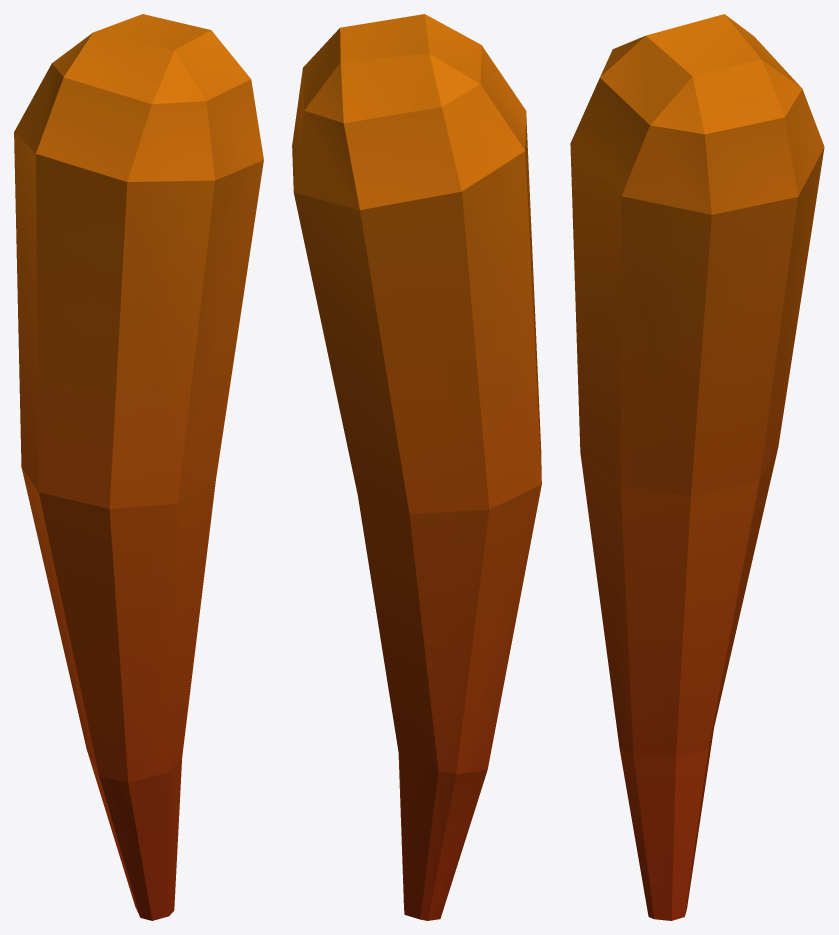
File: carrot.glb
3 renders of one model, left to right at view 1: azimuth 30°, elevation 25°; view 2: azimuth 150°, elevation 25°; view 3: azimuth 270°, elevation 25°, orthographic. The views are drawn at different scales.
Parts seen in each view (by area): view 1: carrot; view 2: carrot; view 3: carrot.
Boxes of the visible parts, x1,y1,x2,y2 form: carrot: (14,14,263,920); carrot: (292,14,541,920); carrot: (570,14,824,920).
Bounding box in the file's own units: 0.1148 × 0.4293 × 0.1115.
Materials: 1 (1 with a texture image).
